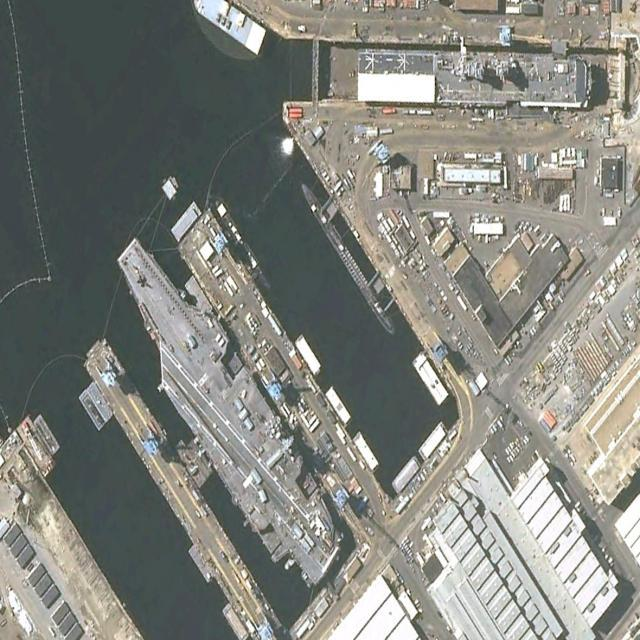Aircraft Carrier: (97, 212, 356, 612)
Landing: (356, 48, 594, 109)
Submarine: (297, 177, 400, 341)
